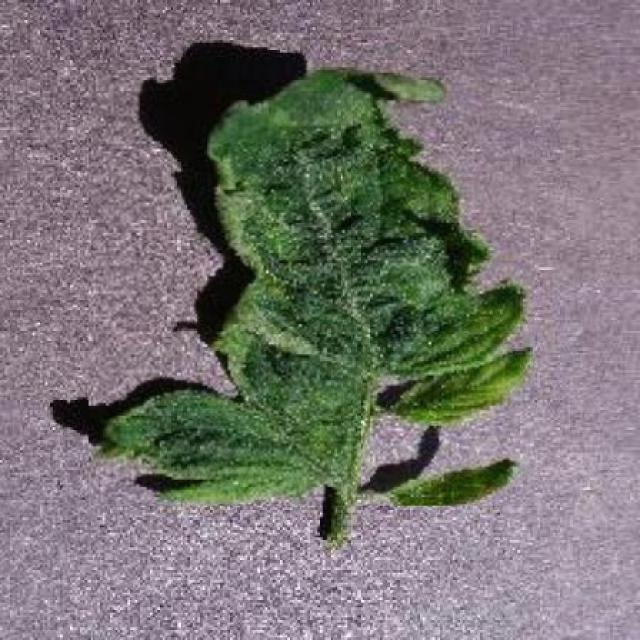Mosaic Virus: (88, 63, 535, 506)
